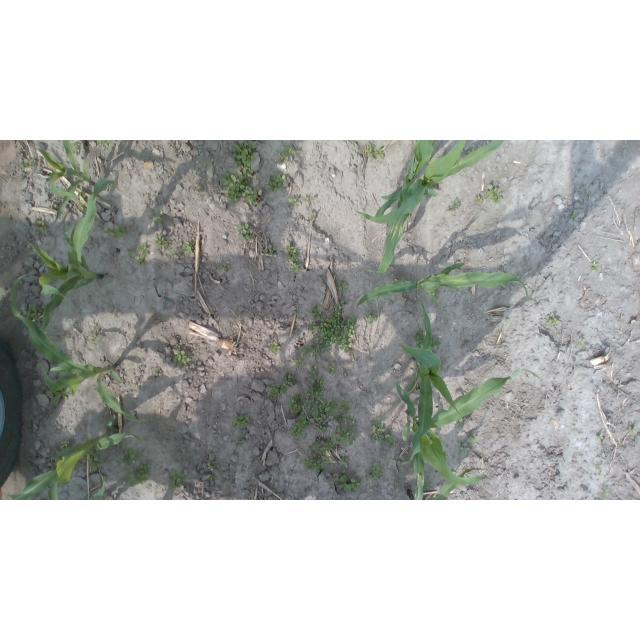Maize: (355, 141, 505, 276), (10, 273, 142, 424), (395, 370, 541, 500), (26, 179, 121, 332), (388, 298, 464, 466), (10, 416, 145, 501), (356, 261, 529, 309), (374, 140, 435, 224), (38, 140, 100, 222), (406, 468, 493, 501), (87, 472, 108, 501)
Weeds: (289, 380, 358, 443), (309, 301, 357, 358), (230, 140, 260, 206), (304, 437, 349, 473), (370, 420, 395, 449), (123, 461, 150, 487), (330, 474, 362, 495), (268, 375, 294, 398), (475, 184, 503, 204), (50, 384, 73, 406), (416, 331, 440, 352), (286, 244, 303, 273), (221, 173, 237, 201), (265, 173, 287, 192), (88, 448, 104, 472), (364, 141, 385, 159), (133, 244, 150, 265), (172, 351, 191, 368), (29, 305, 47, 322), (232, 414, 251, 430), (103, 226, 126, 239), (77, 185, 88, 211), (236, 224, 252, 241), (169, 472, 185, 489), (368, 461, 383, 479), (278, 146, 295, 161), (124, 447, 142, 461), (155, 234, 169, 250), (545, 313, 561, 327), (207, 462, 218, 482), (457, 441, 471, 455), (269, 341, 282, 355), (366, 311, 380, 324), (71, 141, 85, 153), (448, 200, 461, 212), (469, 432, 480, 444), (152, 215, 164, 226), (337, 281, 348, 292), (308, 366, 319, 377), (180, 244, 192, 254), (97, 140, 112, 148), (288, 198, 301, 207), (91, 330, 100, 343), (628, 424, 637, 436), (324, 365, 336, 374), (296, 357, 305, 369), (39, 220, 48, 232), (219, 264, 232, 272), (577, 337, 587, 347), (23, 158, 34, 167), (303, 195, 316, 202), (456, 417, 464, 428), (590, 261, 598, 272), (302, 347, 310, 358), (61, 440, 72, 448), (268, 248, 277, 257), (310, 211, 317, 221), (597, 433, 604, 442), (572, 213, 579, 222), (237, 440, 244, 447), (197, 187, 202, 193)
